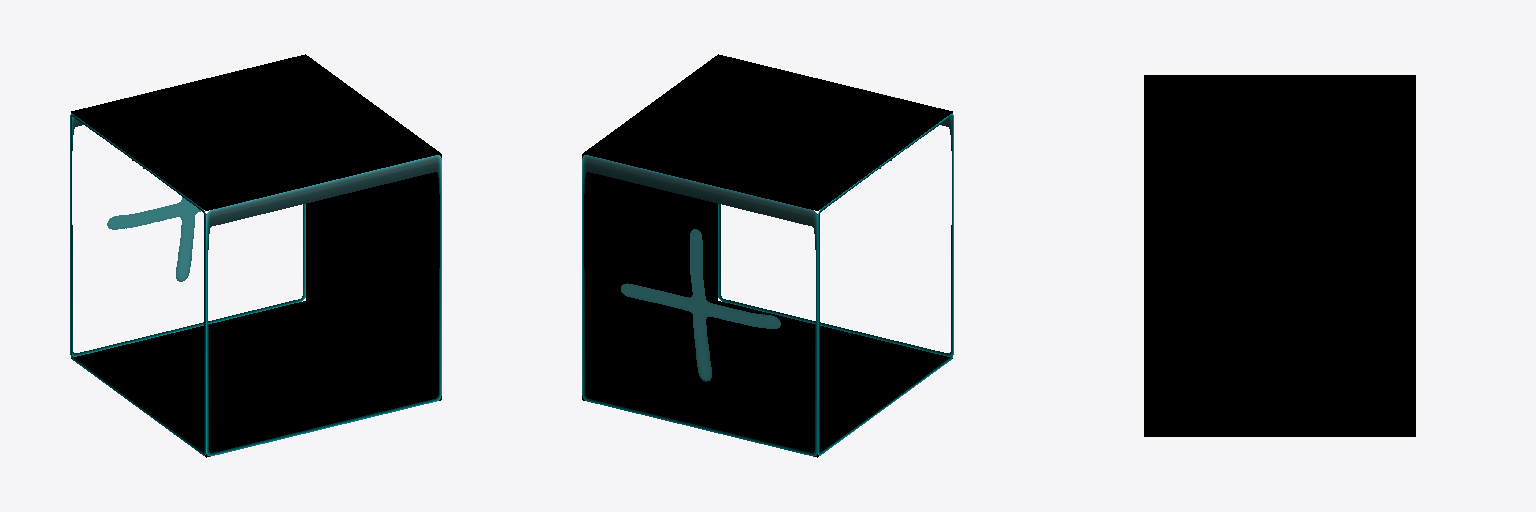
The picture shows the model from 3 angles: view 1: azimuth 30°, elevation 25°; view 2: azimuth 150°, elevation 25°; view 3: azimuth 270°, elevation 25°; orthographic projection.
Parts seen in each view (by area): view 1: pCube1 polySurface9, polySurface10 pCube1, pCube1 polySurface4, pCube1 polySurface1, pCube1 polySurface6, pCube1 polySurface7; view 2: pCube1 polySurface9, polySurface10 pCube1, pCube1 polySurface4, pCube1 polySurface6, pCube1 polySurface7, pCube1 polySurface1; view 3: pCube1 polySurface4, pCube1 polySurface9.
Part boxes in pixels (bbox=[...]): pCube1 polySurface9: bbox=[71, 54, 440, 210]; polySurface10 pCube1: bbox=[71, 301, 440, 457]; pCube1 polySurface4: bbox=[306, 154, 441, 399]; pCube1 polySurface1: bbox=[206, 155, 441, 456]; pCube1 polySurface6: bbox=[71, 113, 305, 356]; pCube1 polySurface7: bbox=[70, 113, 205, 455]; pCube1 polySurface9: bbox=[583, 54, 952, 210]; polySurface10 pCube1: bbox=[583, 301, 952, 457]; pCube1 polySurface4: bbox=[582, 154, 717, 399]; pCube1 polySurface6: bbox=[582, 155, 817, 456]; pCube1 polySurface7: bbox=[818, 113, 953, 455]; pCube1 polySurface1: bbox=[718, 113, 952, 356]; pCube1 polySurface4: bbox=[1144, 190, 1415, 436]; pCube1 polySurface9: bbox=[1144, 75, 1415, 189].
Size of the model in its own units: 10 by 10 by 10.
6 materials, 3 textured.